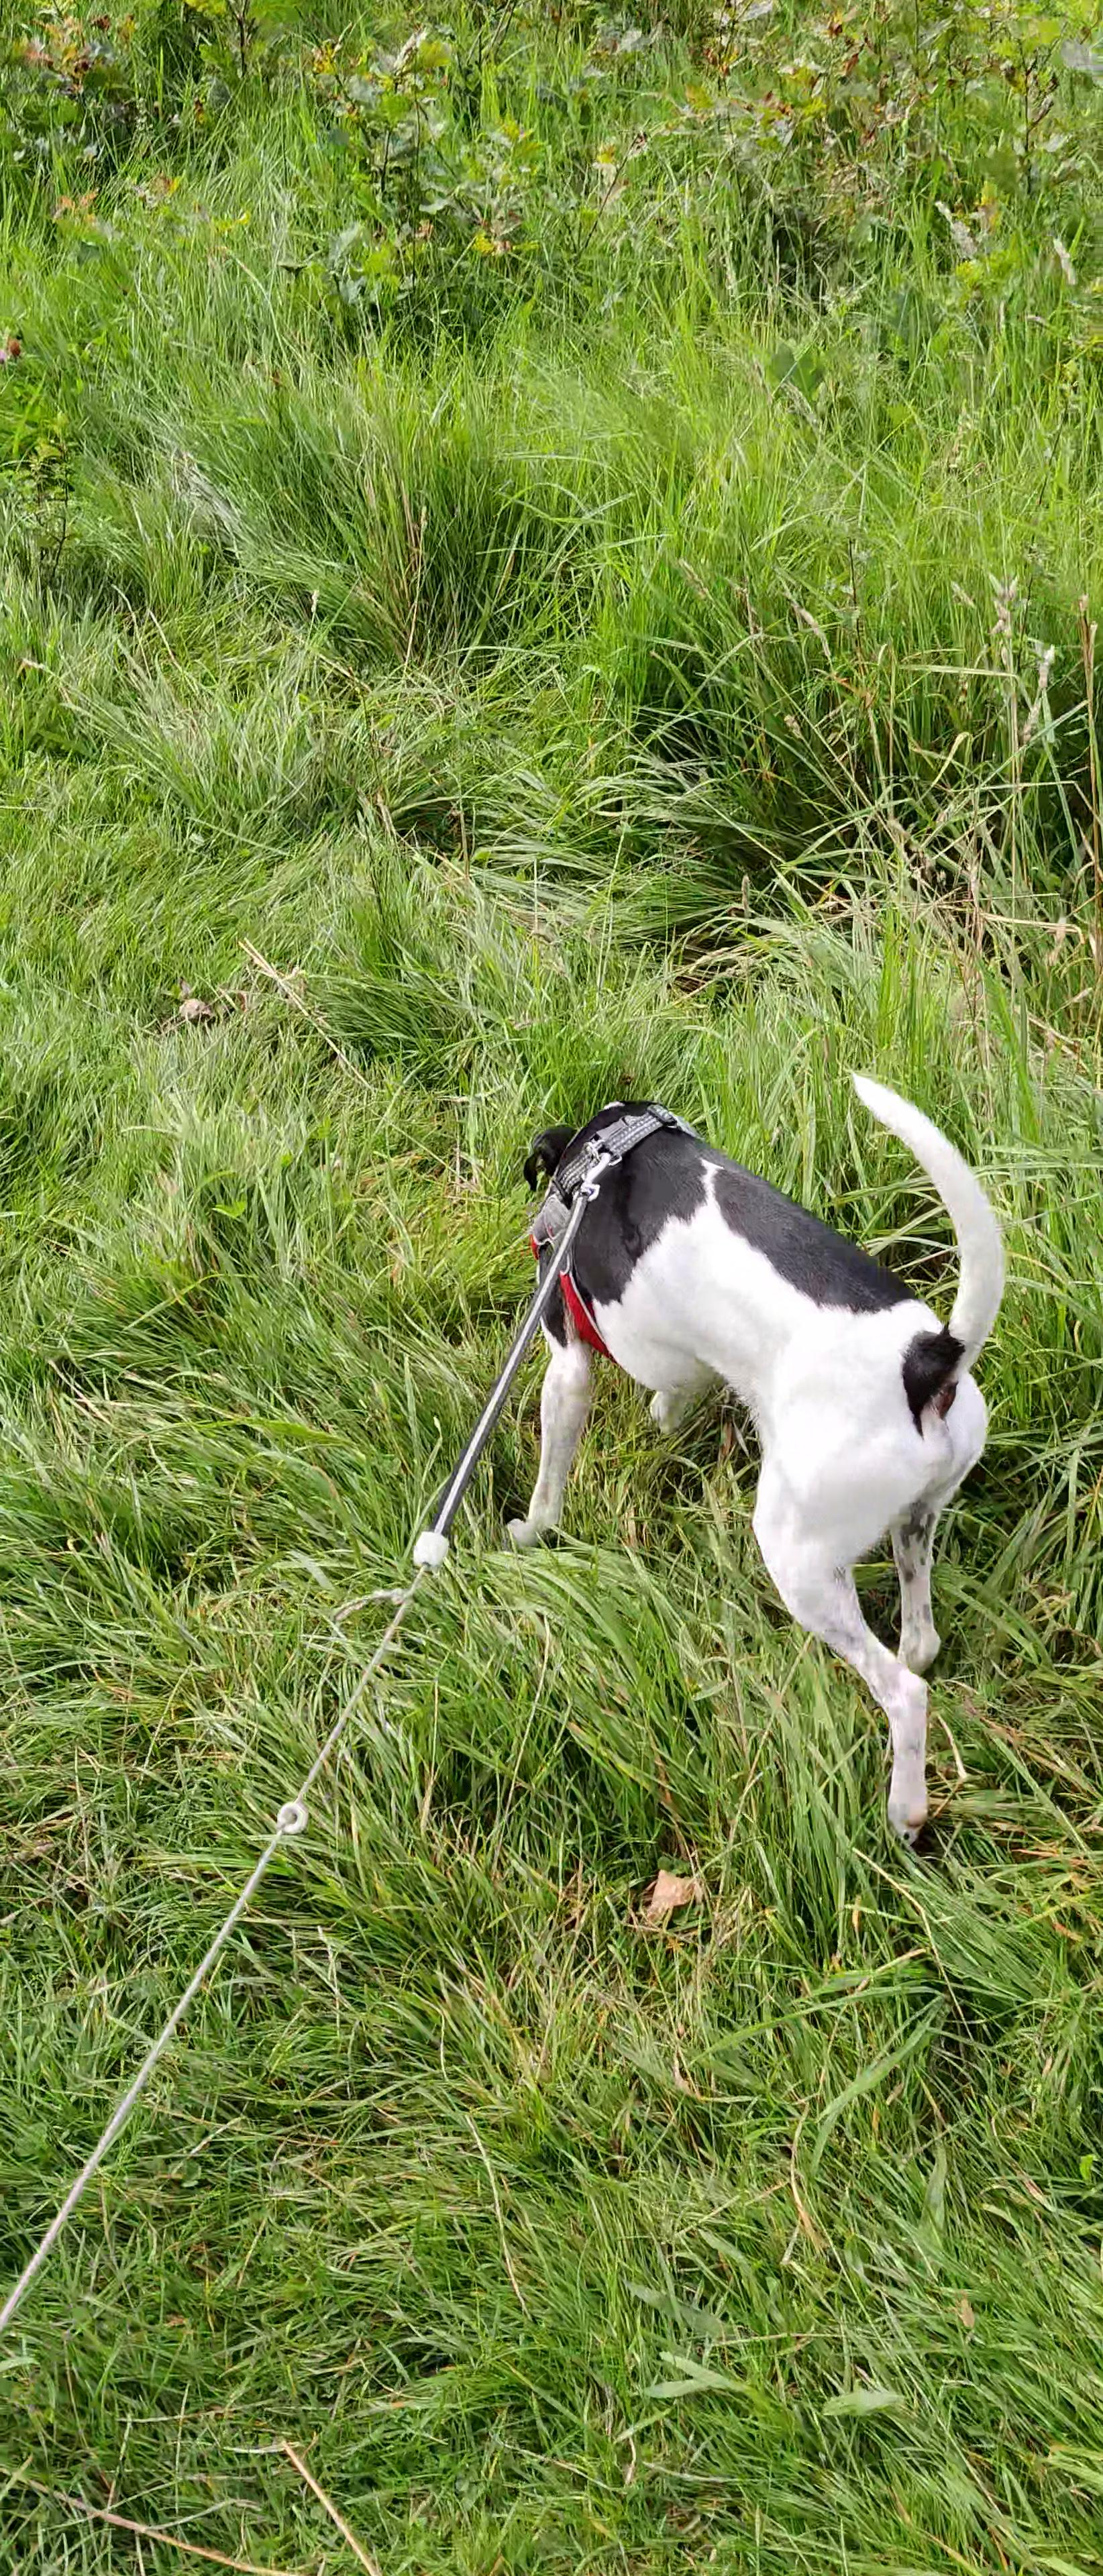Dog: (493, 1056, 1031, 1870)
